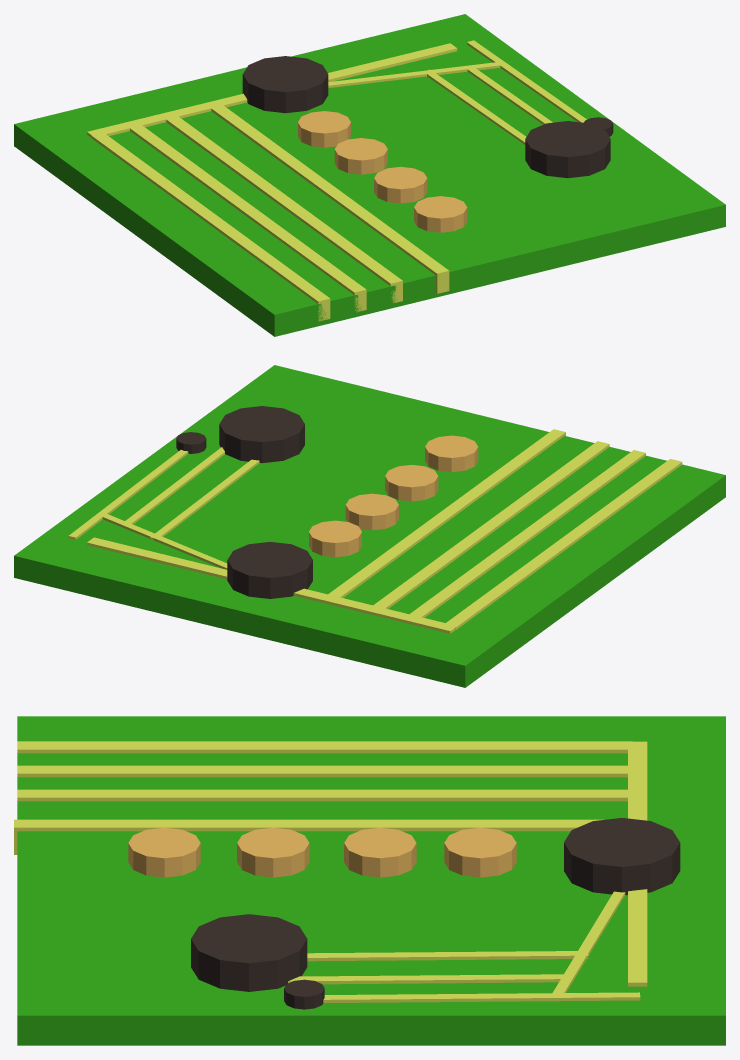
Rendered from circuitboard.dae.
3 views of the same model, one above another, from view 1: azimuth 30°, elevation 25°; view 2: azimuth 150°, elevation 25°; view 3: azimuth 270°, elevation 25° (orthographic). The views are drawn at different scales.
Parts seen in each view (by area): view 1: Cube; view 2: Cube; view 3: Cube.
Part boxes in pixels (left/top/right/bottom): Cube: left=14, top=14, right=725, bottom=336; Cube: left=14, top=365, right=725, bottom=687; Cube: left=14, top=716, right=725, bottom=1045.
Size of the model in its own units: 2 by 2.01 by 0.1828.
